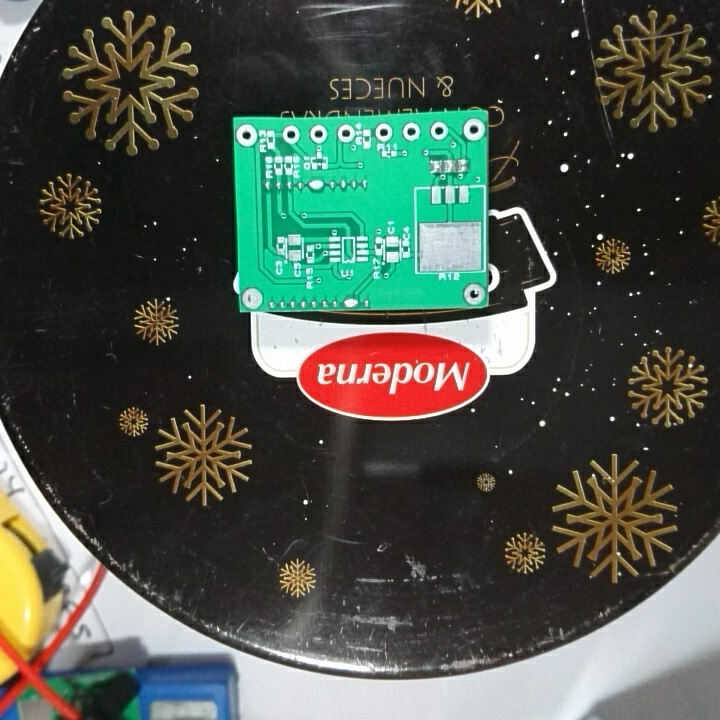F: (240, 285, 266, 311), (235, 122, 259, 149), (461, 281, 485, 306), (461, 118, 487, 141), (308, 123, 331, 146), (401, 119, 423, 143), (373, 122, 394, 146), (429, 120, 451, 142), (281, 124, 302, 146), (336, 122, 356, 144)
P: (341, 295, 361, 311), (307, 177, 325, 193)
